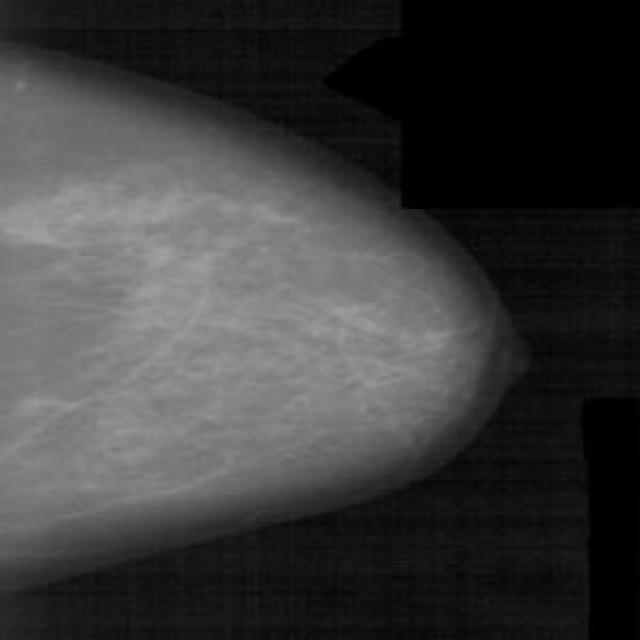tumor: (18, 173, 296, 254)
